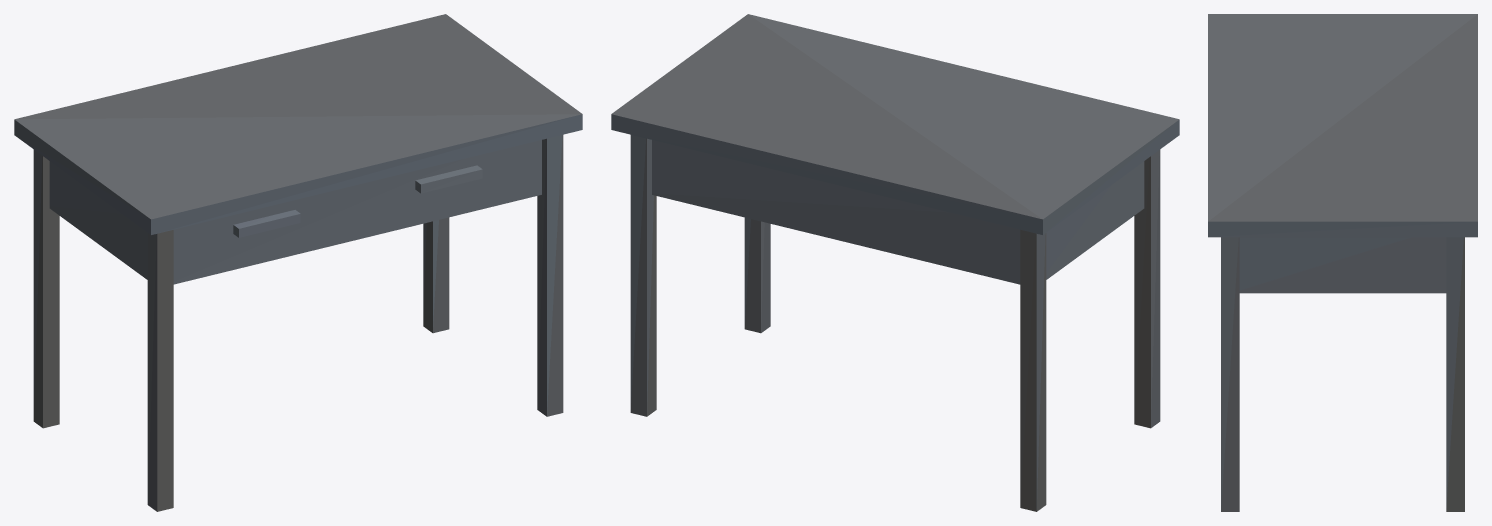
File: gs_shop_counter.glb
The picture shows the model from 3 angles, left to right: view 1: azimuth 30°, elevation 25°; view 2: azimuth 150°, elevation 25°; view 3: azimuth 270°, elevation 25°; orthographic projection.
Parts seen in each view (by area): view 1: Desk; view 2: Desk; view 3: Desk.
Part boxes in pixels (x1,y1,x2,y2): Desk: (14, 14, 582, 511); Desk: (611, 14, 1179, 511); Desk: (1208, 14, 1477, 511).
Size of the model in its own units: 1.38 by 0.9187 by 0.7585.
